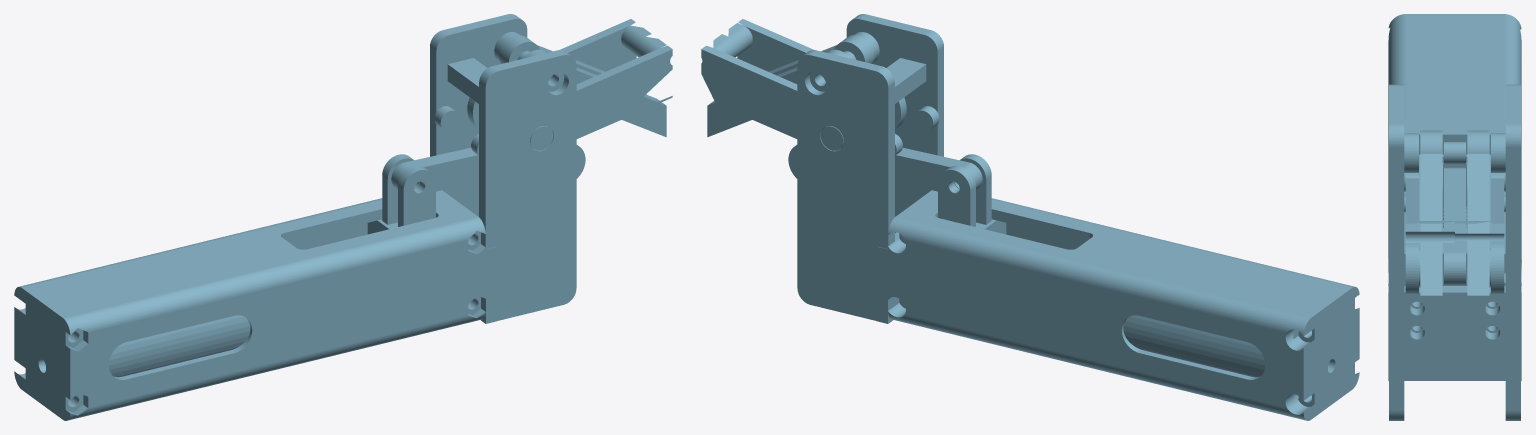
The model's file is 03-first-joints.glb.
3 renders of one model, left to right at view 1: azimuth 30°, elevation 25°; view 2: azimuth 150°, elevation 25°; view 3: azimuth 270°, elevation 25°, orthographic. The views are drawn at different scales.
Parts seen in each view (by area): view 1: 03-first-joints; view 2: 03-first-joints; view 3: 03-first-joints.
Part boxes in pixels (box(x1,y1,x2,y2)): 03-first-joints: box(14, 14, 672, 420); 03-first-joints: box(701, 14, 1359, 420); 03-first-joints: box(1388, 14, 1521, 420).
Bounding box in the file's own units: 0.1878 × 0.0735 × 0.03.
